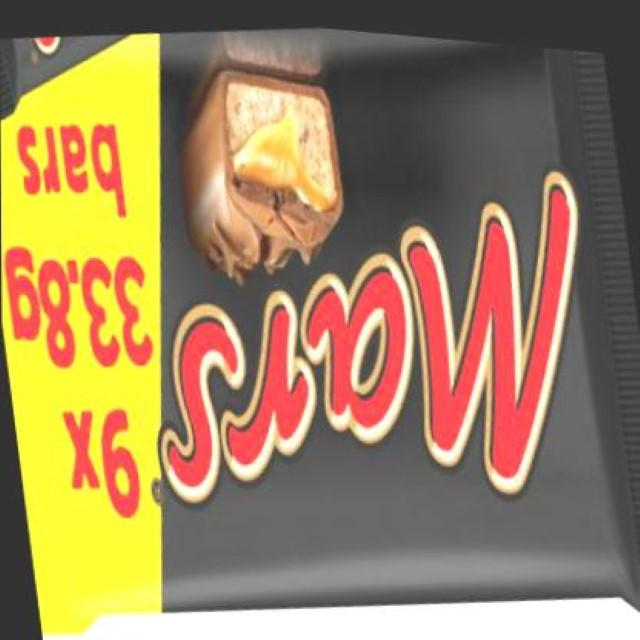mars_chocolate: (26, 30, 640, 601)
